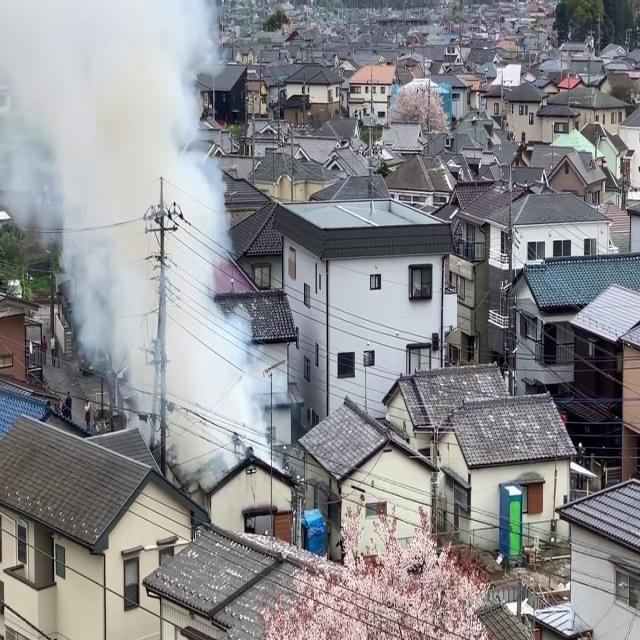Smoke: (10, 0, 268, 476)
